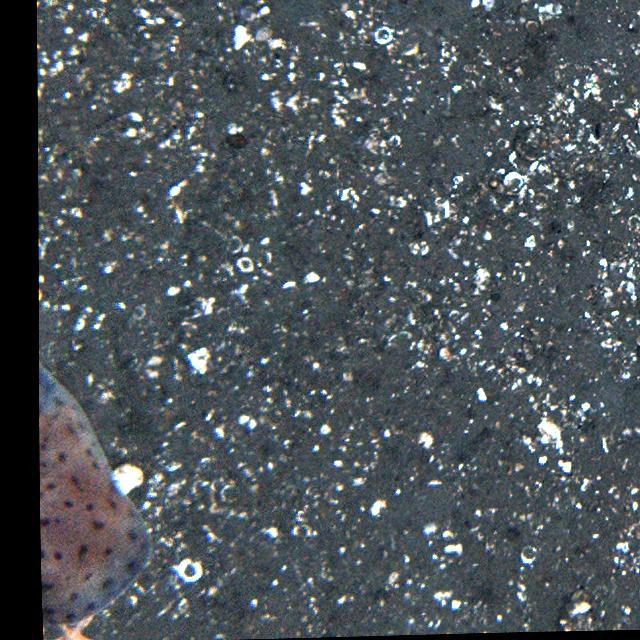skate: (37, 360, 152, 634)
